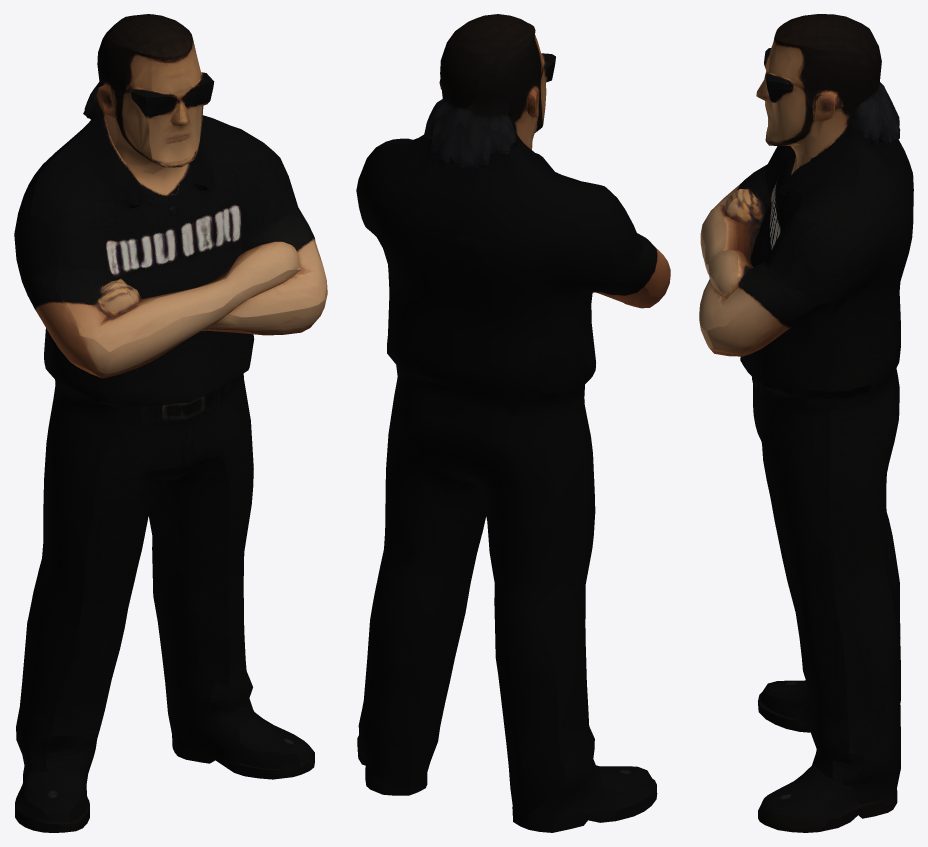
The model's file is Copilot3D-28303757-c4aa-439a-b8a1-102a29cb6eb3.fbx.
3 renders of one model, left to right at view 1: azimuth 30°, elevation 25°; view 2: azimuth 150°, elevation 25°; view 3: azimuth 270°, elevation 25°, orthographic.
Parts seen in each view (by area): view 1: node_b84c9575_9cc9_46b1_a768_74f81544e450_mesh0; view 2: node_b84c9575_9cc9_46b1_a768_74f81544e450_mesh0; view 3: node_b84c9575_9cc9_46b1_a768_74f81544e450_mesh0.
Boxes of the visible parts, <box> form: node_b84c9575_9cc9_46b1_a768_74f81544e450_mesh0: <box>14,14,327,832</box>; node_b84c9575_9cc9_46b1_a768_74f81544e450_mesh0: <box>356,14,670,832</box>; node_b84c9575_9cc9_46b1_a768_74f81544e450_mesh0: <box>699,14,913,832</box>.
Bounding box in the file's own units: 39.03 × 99.99 × 26.01.
1 material, 1 textured.
